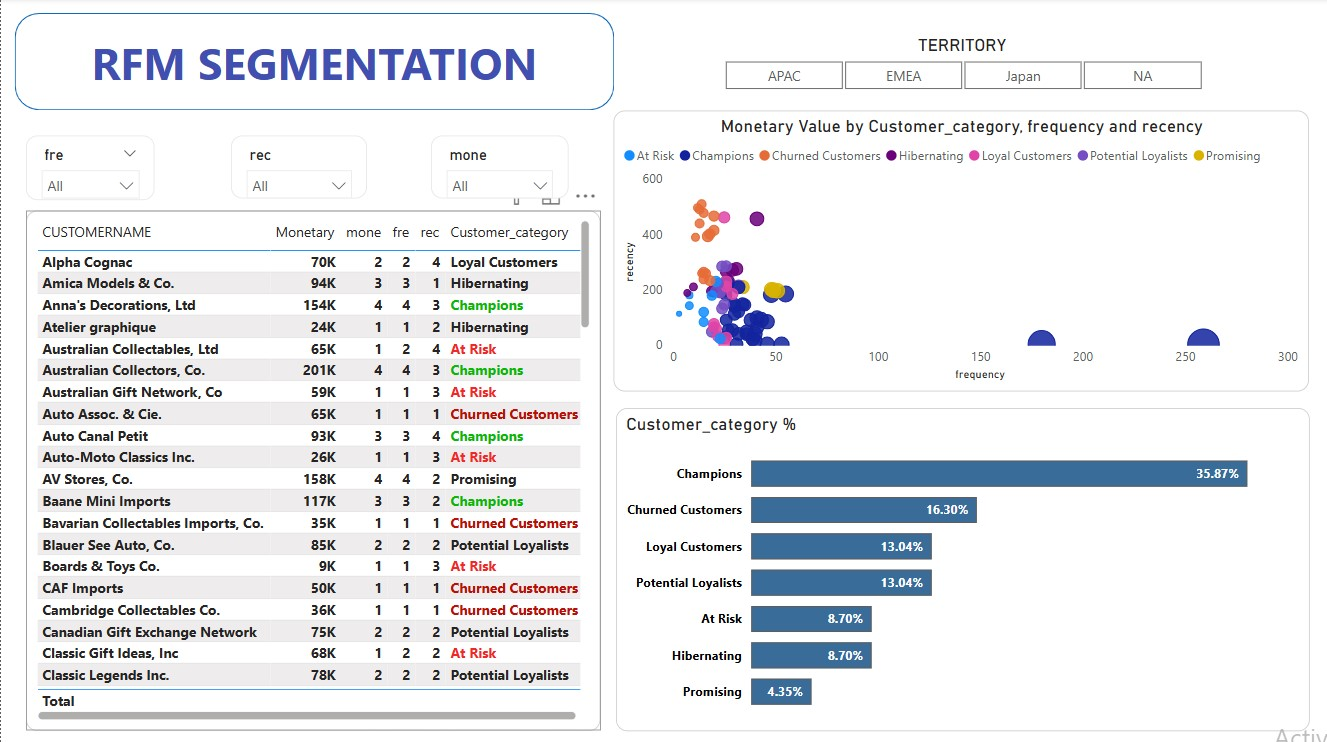

This screenshot's page, from the dashboard's own definition file:
{"tool":"powerbi","page":{"name":"Page 1","canvas":[1280,720],"ordinal":0},"visuals":[{"type":"tableEx","fields":{"Values":["rfm_segmentation segment_rfm.CUSTOMERNAME","rfm_segmentation segment_rfm.Monetary","rfm_segmentation segment_rfm.mone","rfm_segmentation segment_rfm.fre","rfm_segmentation segment_rfm.rec","rfm_segmentation segment_rfm.Customer_category"]},"box":[24.5,204.9,554,502.1],"z":0},{"type":"barChart","title":" Customer_category %","fields":{"Category":["rfm_segmentation segment_rfm.Customer_category"],"Y":["rfm_segmentation segment_rfm.Measure1"]},"box":[593,395.3,669.4,311.6],"z":1000},{"type":"slicer","title":"TERRITORY","fields":{"Values":["Region.TERRITORY"]},"box":[673.8,34.6,509.3,54.8],"z":2000},{"type":"scatterChart","title":" Monetary Value by Customer_category, frequency and recency","fields":{"Series":["rfm_segmentation segment_rfm.Customer_category"],"Size":["Sum(rfm_segmentation segment_rfm.Monetary)"],"X":["rfm_segmentation segment_rfm.frequency"],"Y":["rfm_segmentation segment_rfm.recency"]},"box":[591.5,108.2,670.9,271.2],"z":3000},{"type":"slicer","fields":{"Values":["rfm_segmentation segment_rfm.fre"]},"box":[24.5,132.7,124.1,62],"z":3001},{"type":"slicer","fields":{"Values":["rfm_segmentation segment_rfm.rec"]},"box":[222.2,132.7,131.3,60.6],"z":3002},{"type":"slicer","fields":{"Values":["rfm_segmentation segment_rfm.mone"]},"box":[415.5,132.7,132.7,60.6],"z":3003},{"type":"shape","box":[13,14.4,578.5,93.8],"z":3004}]}

Visuals, with their boxes in screenshot pixels (x1, y1, x2, y2), scaled from the page's 1280x720 canvas onto the 1327x742 screenshot:
tableEx - rfm_segmentation segment_rfm.CUSTOMERNAME x rfm_segmentation segment_rfm.Monetary: 25 211 600 729
" Customer_category %" barChart: 615 407 1309 728
"TERRITORY" slicer: 699 36 1227 92
" Monetary Value by Customer_category, frequency and recency" scatterChart: 613 112 1309 391
slicer - rfm_segmentation segment_rfm.fre: 25 137 154 201
slicer - rfm_segmentation segment_rfm.rec: 230 137 366 199
slicer - rfm_segmentation segment_rfm.mone: 431 137 568 199
shape: 13 15 613 112
